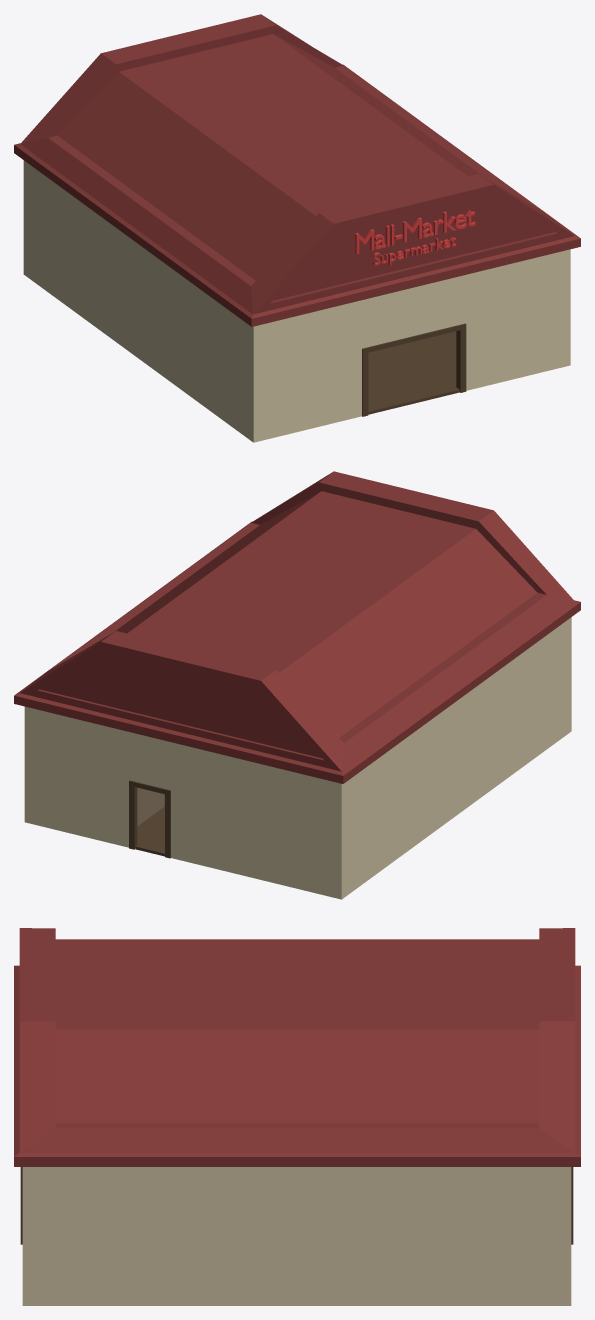
Rendered from Market.fbx.
3 views of the same model, one above another, from view 1: azimuth 30°, elevation 25°; view 2: azimuth 150°, elevation 25°; view 3: azimuth 270°, elevation 25° (orthographic). The views are drawn at different scales.
Visible parts, largest first — view 1: Market_LOD0; view 2: Market_LOD0; view 3: Market_LOD0.
Boxes of the visible parts, x1,y1,x2,y2 form: Market_LOD0: [14, 14, 580, 442]; Market_LOD0: [14, 471, 580, 899]; Market_LOD0: [14, 928, 580, 1305].
Size of what is drawn, in the model's own units: 3209 by 1869 by 4014.
Materials: 1 (1 with a texture image).
